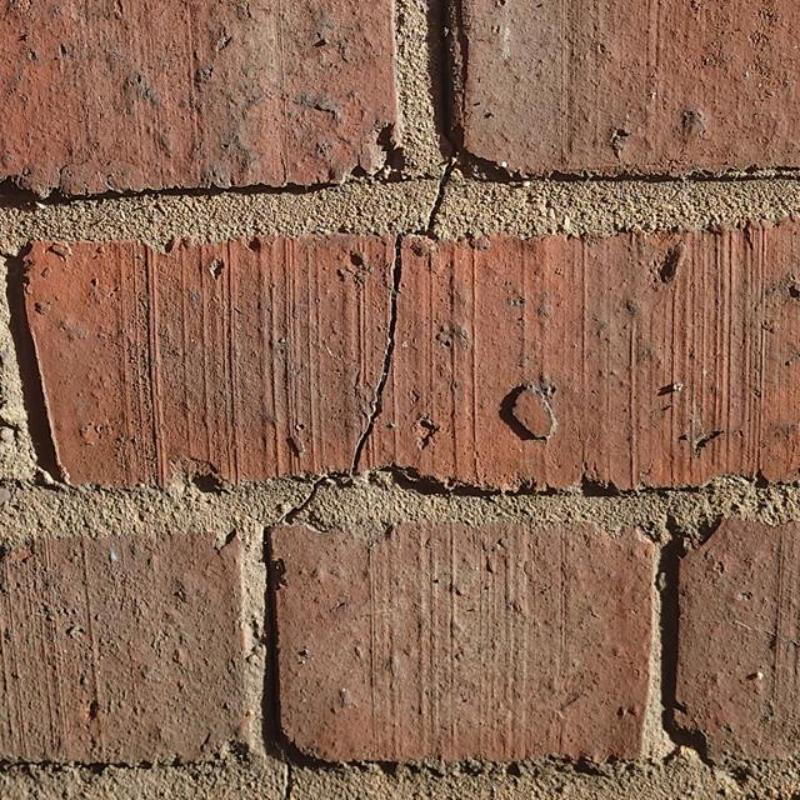pothole: (281, 164, 450, 523), (364, 466, 620, 496), (286, 762, 292, 800)
